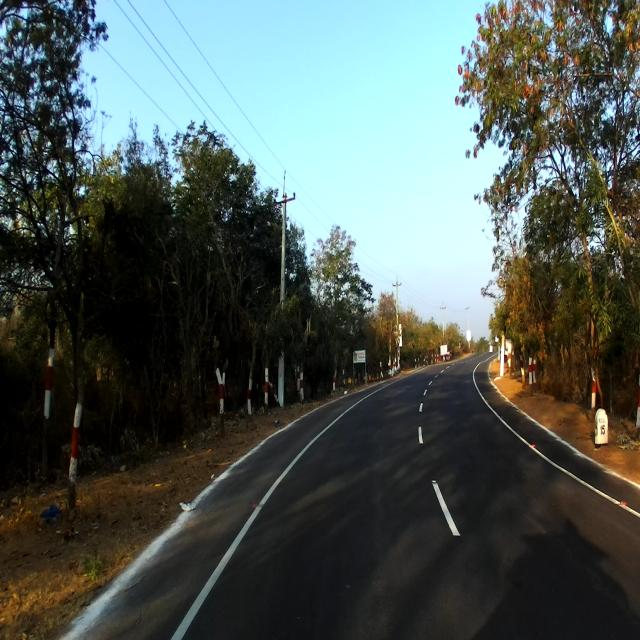tree ahead at: (21, 213, 97, 507), (204, 320, 231, 434)
